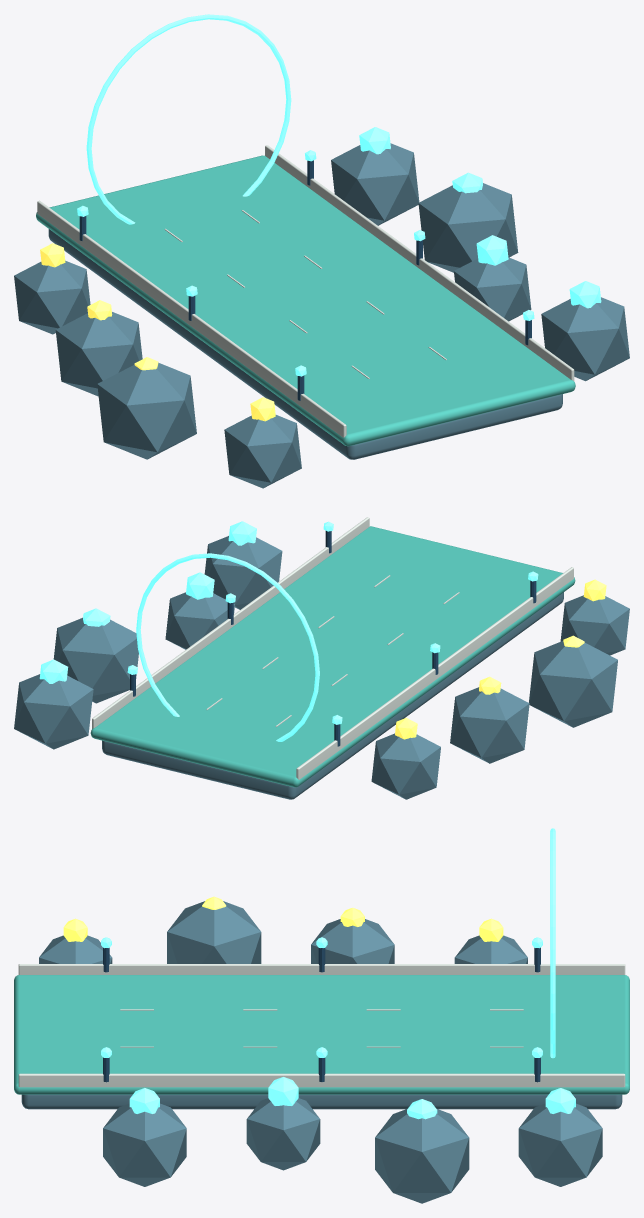
The model's file is bridge.glb.
3 renders of one model, top to bottom at view 1: azimuth 30°, elevation 25°; view 2: azimuth 150°, elevation 25°; view 3: azimuth 270°, elevation 25°, orthographic. The views are drawn at different scales.
Parts seen in each view (by area): view 1: BridgeTop, FloatingRock_2, BridgeRock, FloatingRock_5, FloatingRock_1, FloatingRock_7, FloatingRock_4, Rail_-4.22, FloatingRock_0, FloatingRock_6, Rail_4.22, FloatingRock_3 (+4 smaller); view 2: BridgeTop, FloatingRock_2, BridgeRock, FloatingRock_5, FloatingRock_4, FloatingRock_7, Rail_-4.22, FloatingRock_1, FloatingRock_6, Rail_4.22, FloatingRock_0, FloatingRock_3 (+6 smaller); view 3: BridgeTop, Rail_4.22, BridgeRock, FloatingRock_5, Rail_-4.22, FloatingRock_7, FloatingRock_1, FloatingRock_2, FloatingRock_3, FloatingRock_4, FloatingRock_6, FloatingRock_0 (+4 smaller).
Boxes of the visible parts, bbox=[...] form: BridgeTop: bbox=[36, 155, 575, 446]; FloatingRock_2: bbox=[97, 362, 196, 459]; BridgeRock: bbox=[48, 229, 562, 459]; FloatingRock_5: bbox=[418, 183, 518, 272]; FloatingRock_1: bbox=[541, 297, 629, 381]; FloatingRock_7: bbox=[331, 143, 419, 225]; FloatingRock_4: bbox=[55, 312, 142, 396]; Rail_-4.22: bbox=[37, 200, 346, 437]; FloatingRock_0: bbox=[224, 415, 301, 488]; FloatingRock_6: bbox=[14, 260, 90, 334]; Rail_4.22: bbox=[265, 145, 574, 380]; FloatingRock_3: bbox=[454, 257, 531, 321]; BridgeTop: bbox=[90, 526, 575, 787]; FloatingRock_2: bbox=[529, 641, 617, 727]; BridgeRock: bbox=[102, 592, 563, 799]; FloatingRock_5: bbox=[53, 617, 138, 703]; FloatingRock_4: bbox=[450, 687, 529, 763]; FloatingRock_7: bbox=[14, 674, 93, 749]; Rail_-4.22: bbox=[296, 567, 573, 779]; FloatingRock_1: bbox=[204, 536, 282, 609]; FloatingRock_6: bbox=[371, 733, 440, 799]; Rail_4.22: bbox=[92, 517, 369, 728]; FloatingRock_0: bbox=[560, 595, 629, 655]; FloatingRock_3: bbox=[165, 592, 234, 649]; BridgeTop: bbox=[14, 975, 629, 1094]; Rail_4.22: bbox=[18, 1073, 625, 1087]; BridgeRock: bbox=[21, 1094, 622, 1109]; FloatingRock_5: bbox=[375, 1108, 469, 1203]; Rail_-4.22: bbox=[18, 964, 625, 974]; FloatingRock_7: bbox=[518, 1103, 602, 1186]; FloatingRock_1: bbox=[103, 1103, 186, 1186]; FloatingRock_2: bbox=[167, 901, 261, 963]; FloatingRock_3: bbox=[246, 1098, 320, 1170]; FloatingRock_4: bbox=[311, 919, 394, 963]; FloatingRock_6: bbox=[454, 935, 527, 963]; FloatingRock_0: bbox=[39, 935, 112, 963].
Size of the model in its own units: 19.02 by 9.38 by 20.
